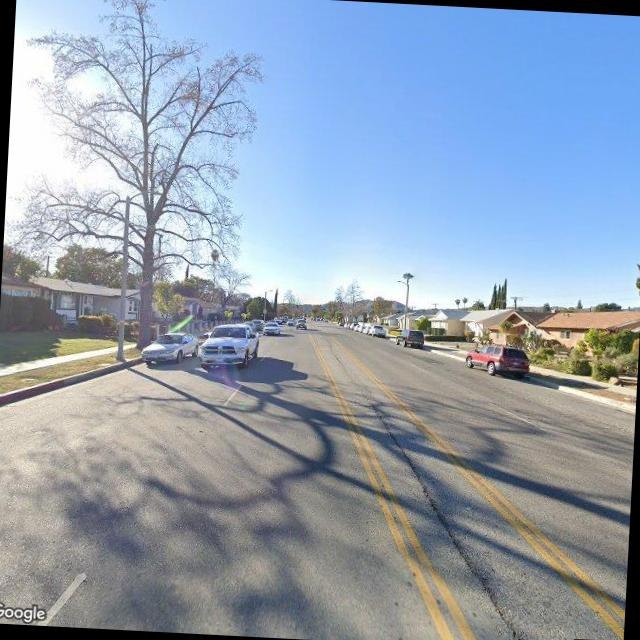pothole: (360, 391, 537, 640)
